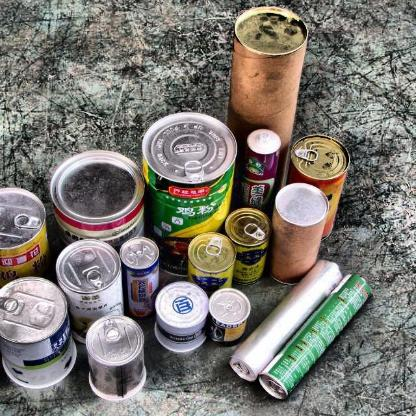Can: (225, 257, 357, 383), (256, 276, 384, 398), (140, 106, 240, 236), (46, 142, 152, 246), (1, 273, 80, 393), (52, 237, 132, 345), (288, 127, 350, 245), (84, 316, 150, 401), (0, 176, 52, 280), (226, 0, 312, 56), (148, 280, 207, 354), (116, 232, 160, 318), (220, 206, 268, 282), (243, 124, 283, 214), (186, 229, 238, 297), (270, 181, 334, 231), (204, 286, 256, 342)
